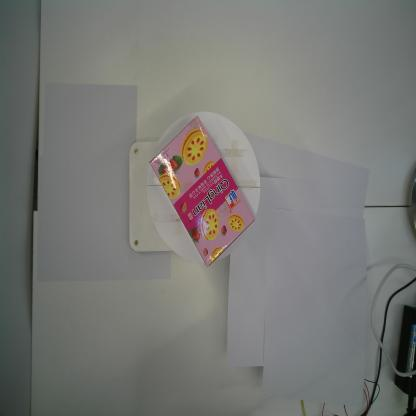Dessert: (148, 113, 256, 268)
